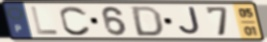6: (101, 5, 128, 37)
7: (205, 6, 231, 38)
C: (58, 5, 93, 37)
D: (131, 5, 165, 38)
J: (177, 6, 203, 37)
L: (29, 6, 61, 36)
